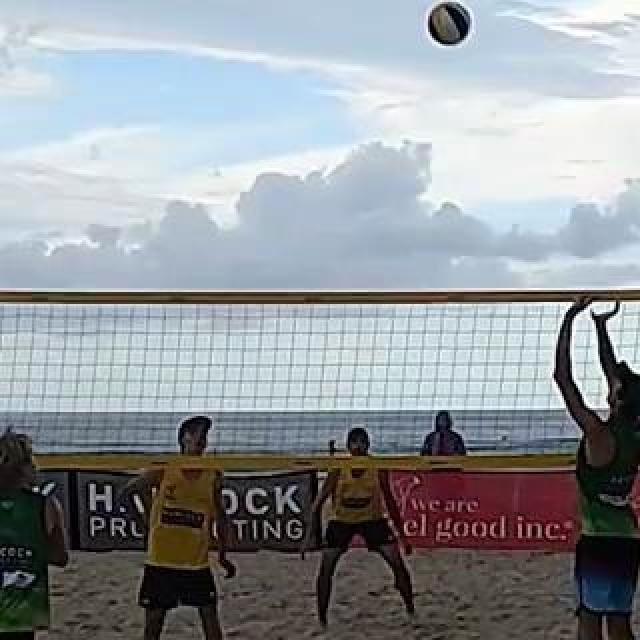volleyball: (426, 1, 472, 47)
